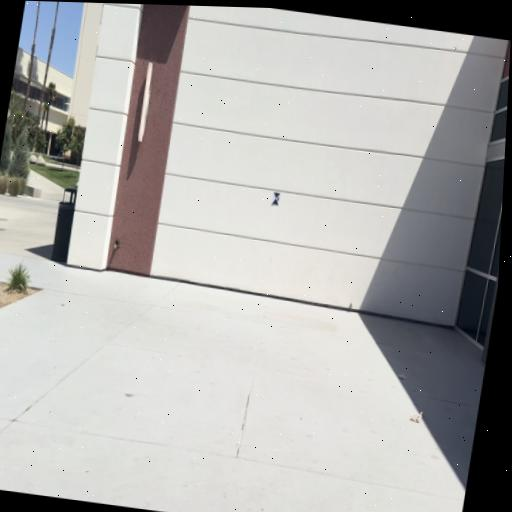target0: (270, 191, 281, 208)
